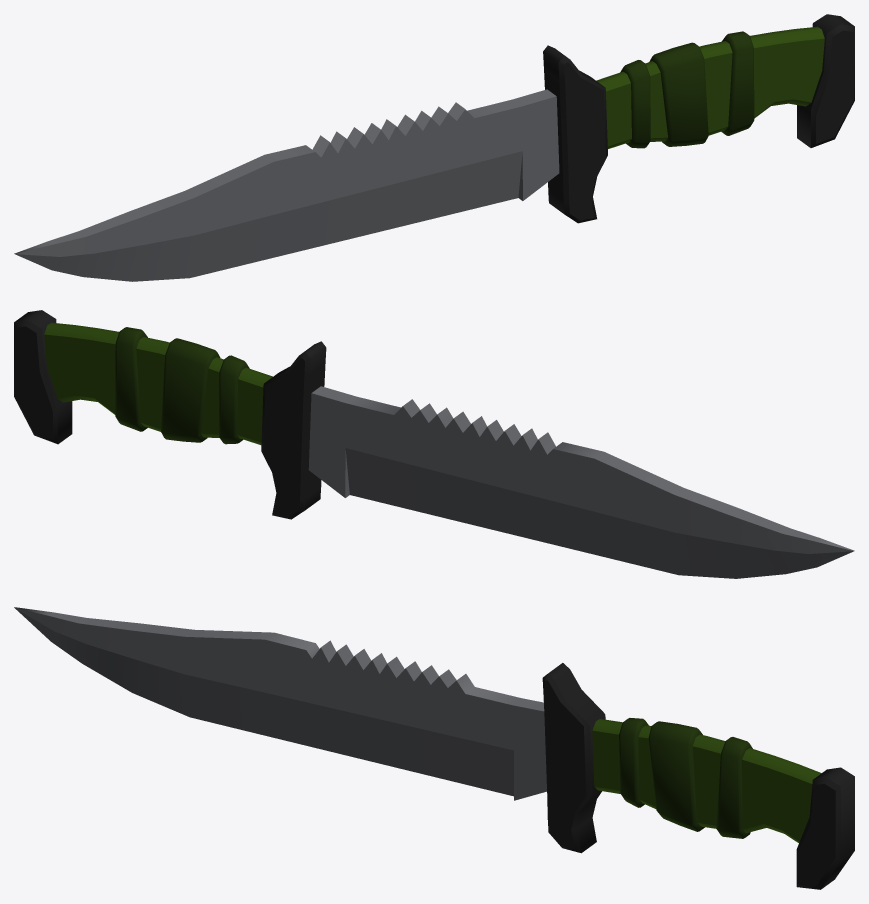
3 renders of one model, top to bottom at view 1: azimuth 30°, elevation 25°; view 2: azimuth 150°, elevation 25°; view 3: azimuth 330°, elevation 25°, orthographic.
Visible parts, largest first — view 1: knife; view 2: knife; view 3: knife.
Boxes of the visible parts, x1,y1,x2,y2 form: knife: (14, 14, 854, 281); knife: (14, 310, 854, 578); knife: (14, 607, 854, 889).
Size of the model in its own units: 5 by 0.9794 by 0.203.
1 material, 1 textured.
